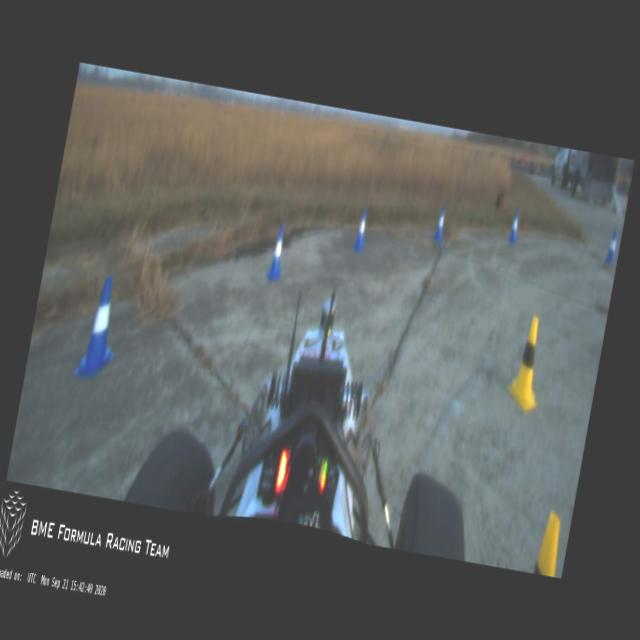blue_cone: (72, 274, 126, 382), (265, 222, 288, 284), (352, 205, 371, 252), (603, 228, 620, 266), (432, 204, 448, 244), (506, 209, 520, 244)
yellow_cone: (504, 314, 550, 414), (530, 510, 566, 577)
